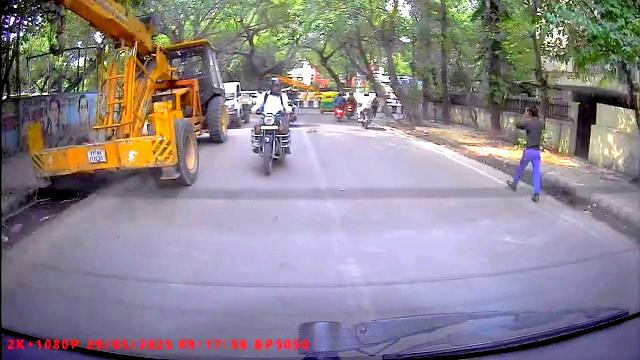motorcycle_with_helmet: (250, 75, 293, 177)
